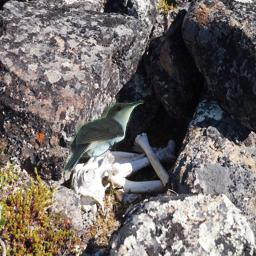Cuckoo: (62, 100, 145, 174)
